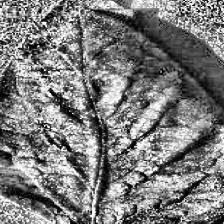Blossom Blight: (94, 182, 132, 222), (136, 88, 171, 130), (32, 61, 67, 100), (137, 144, 173, 172), (182, 121, 204, 143)
